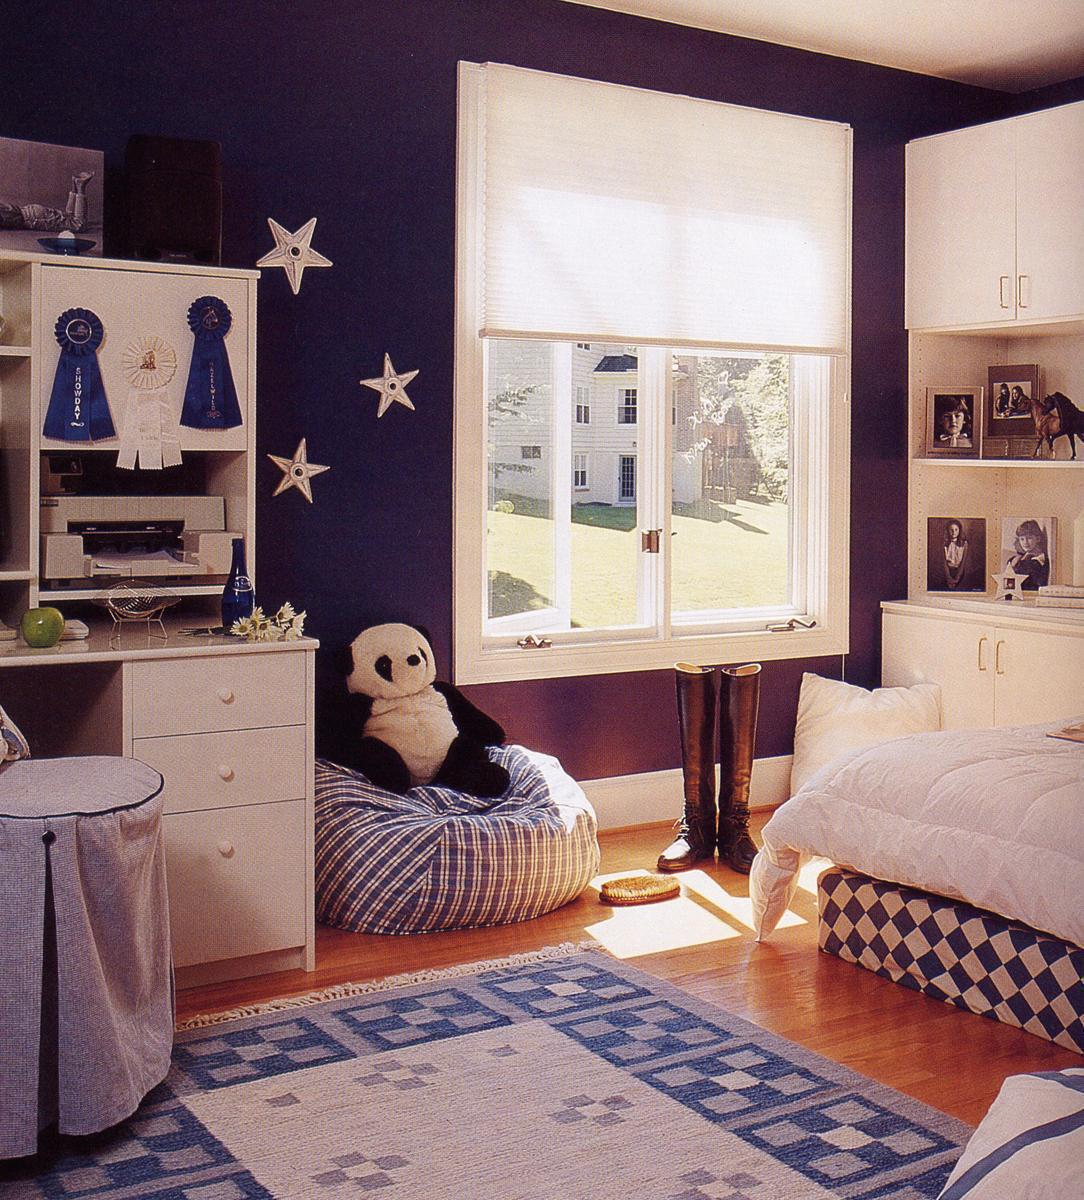Cama: (787, 697, 1083, 1049)
Otro Obstaculo: (656, 659, 780, 870)
Ventana: (467, 70, 838, 661)
